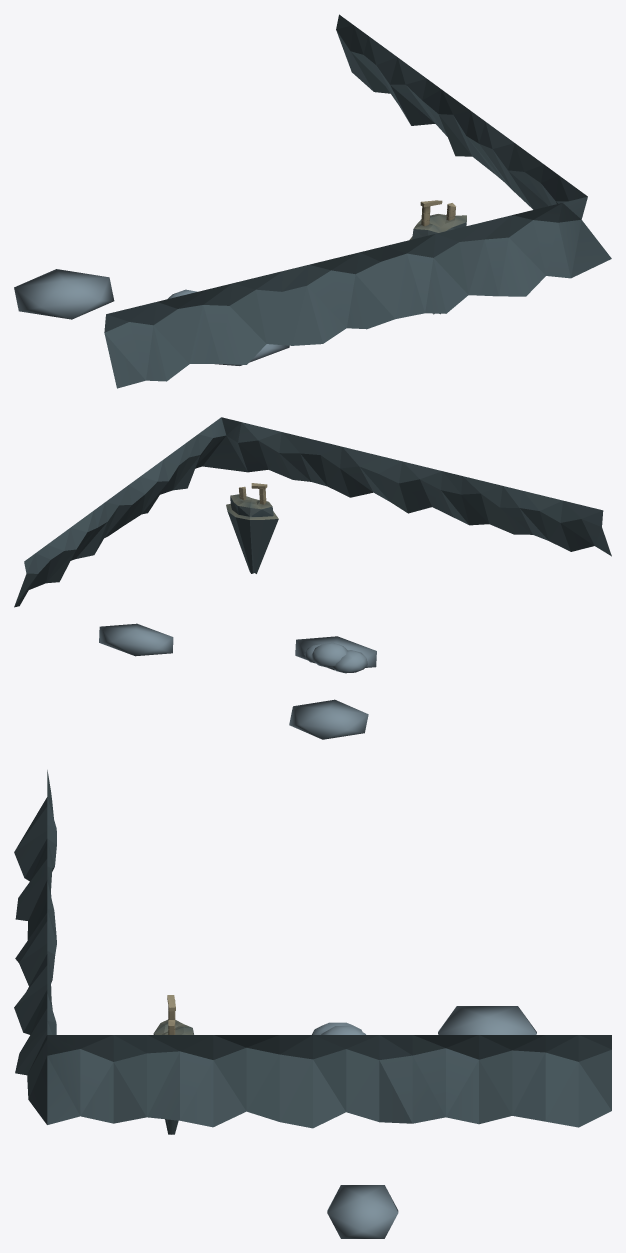
Rendered from skyreach-daybreak-overlook-v1.glb.
3 renders of one model, top to bottom at view 1: azimuth 30°, elevation 25°; view 2: azimuth 150°, elevation 25°; view 3: azimuth 270°, elevation 25°, orthographic. The views are drawn at different scales.
Parts seen in each view (by area): view 1: GB_DAYBREAK_RIM, DaybreakCloud0, GB_DAYBREAK_ISLAND; view 2: GB_DAYBREAK_RIM, DaybreakCloud0, GB_DAYBREAK_ISLAND; view 3: GB_DAYBREAK_RIM, DaybreakCloud0.
Part boxes in pixels (x1=…): GB_DAYBREAK_RIM: x1=104, y1=14, x2=611, y2=388; DaybreakCloud0: x1=14, y1=269, x2=289, y2=365; GB_DAYBREAK_ISLAND: x1=409, y1=214, x2=466, y2=314; GB_DAYBREAK_RIM: x1=14, y1=417, x2=611, y2=607; DaybreakCloud0: x1=99, y1=623, x2=376, y2=739; GB_DAYBREAK_ISLAND: x1=226, y1=494, x2=278, y2=573; GB_DAYBREAK_RIM: x1=14, y1=770, x2=611, y2=1128; DaybreakCloud0: x1=312, y1=1006, x2=536, y2=1238.
Size of the model in its own units: 79.99 by 27.74 by 72.
